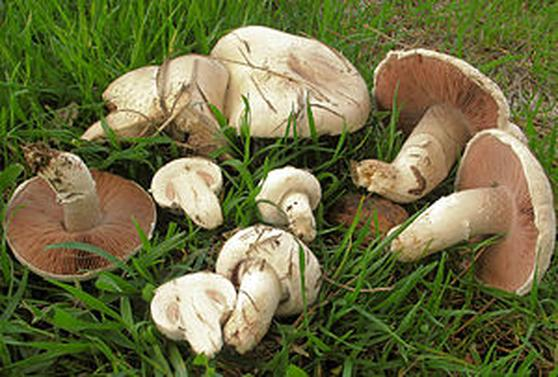champignon: (220, 227, 324, 351), (253, 167, 326, 238)
